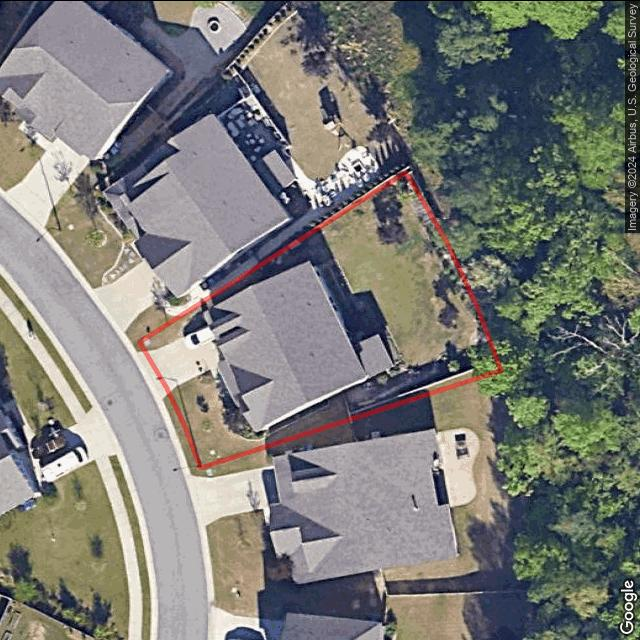Driveway: (145, 298, 225, 391)
Extra-Driveway: (137, 350, 169, 399)
Extra-Lawn: (163, 390, 200, 473), (132, 340, 146, 351)
House: (208, 261, 392, 430)
Lawn: (139, 173, 501, 467)
Other: (339, 321, 497, 413), (312, 255, 389, 346), (226, 404, 264, 437), (211, 368, 229, 391)
